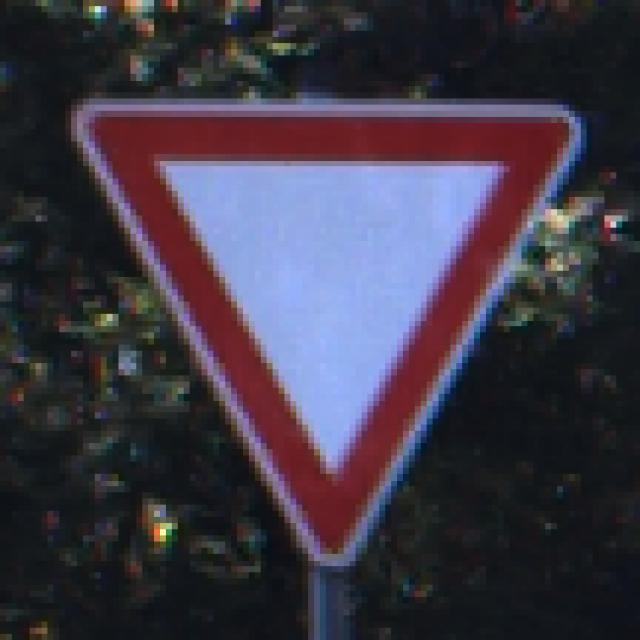Give Way: (60, 63, 588, 586)
